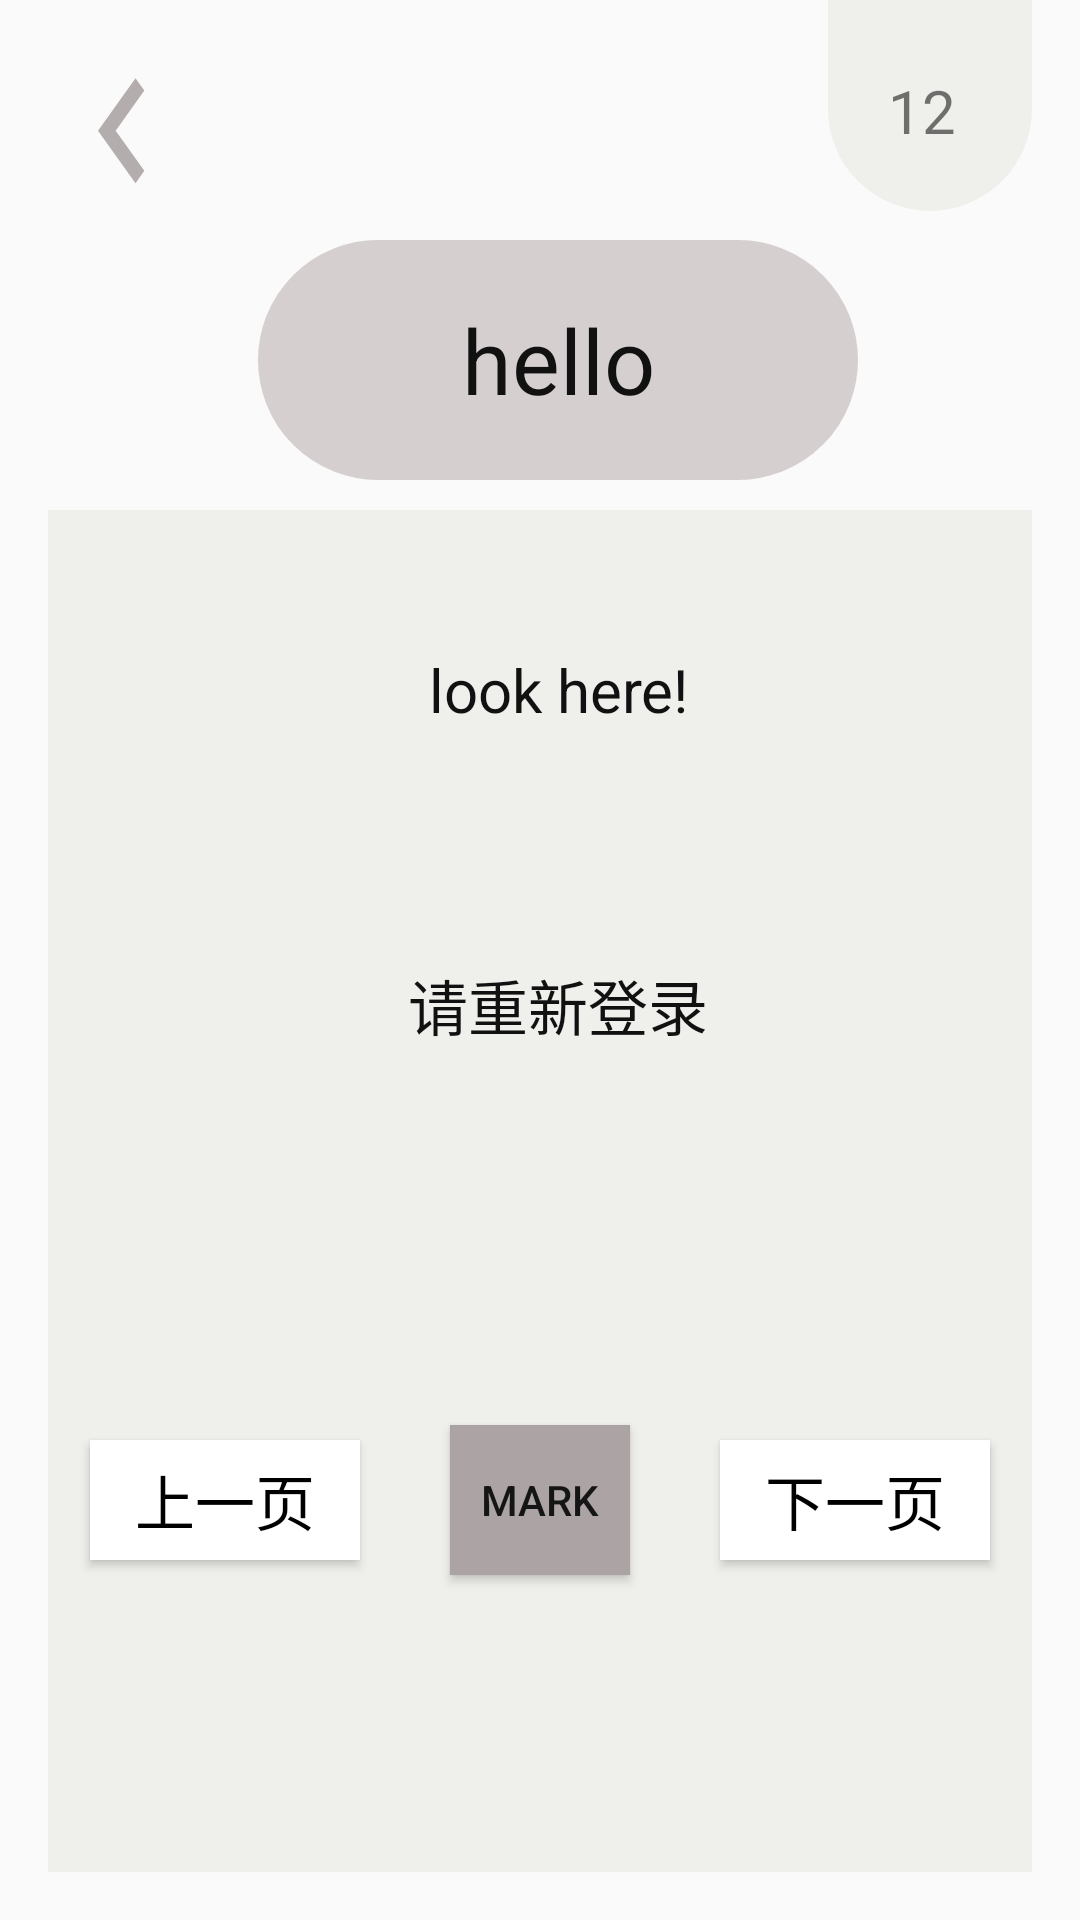

Icon click points for this 1080px x 1920px phone screenshot, format point (x, y):
keyboard arrow left: point (121, 130)
